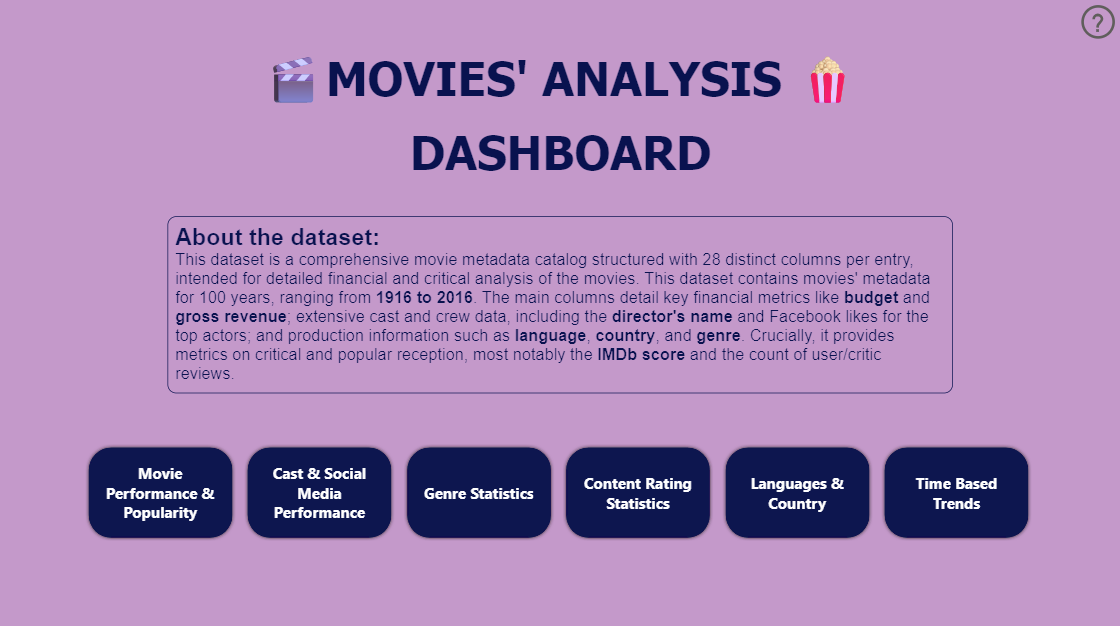

This screenshot's page, from the dashboard's own definition file:
{"tool":"powerbi","page":{"name":"Home","canvas":[1280,720],"ordinal":0},"visuals":[{"type":"pageNavigator","box":[87.1,497.1,1105.7,131.4],"z":0},{"type":"textbox","box":[278,46.6,723.9,164.4],"z":1000},{"type":"textbox","box":[191.2,247.5,897.5,202.5],"z":2000},{"type":"actionButton","box":[1230,0,50,50],"z":3000}]}

Visuals, with their boxes in screenshot pixels (x1, y1, x2, y2), scaled from the page's 1280x720 canvas onto the 1120x626 screenshot:
pageNavigator: (76, 432, 1044, 546)
textbox: (243, 41, 877, 183)
textbox: (167, 215, 953, 391)
actionButton: (1076, 0, 1119, 43)
